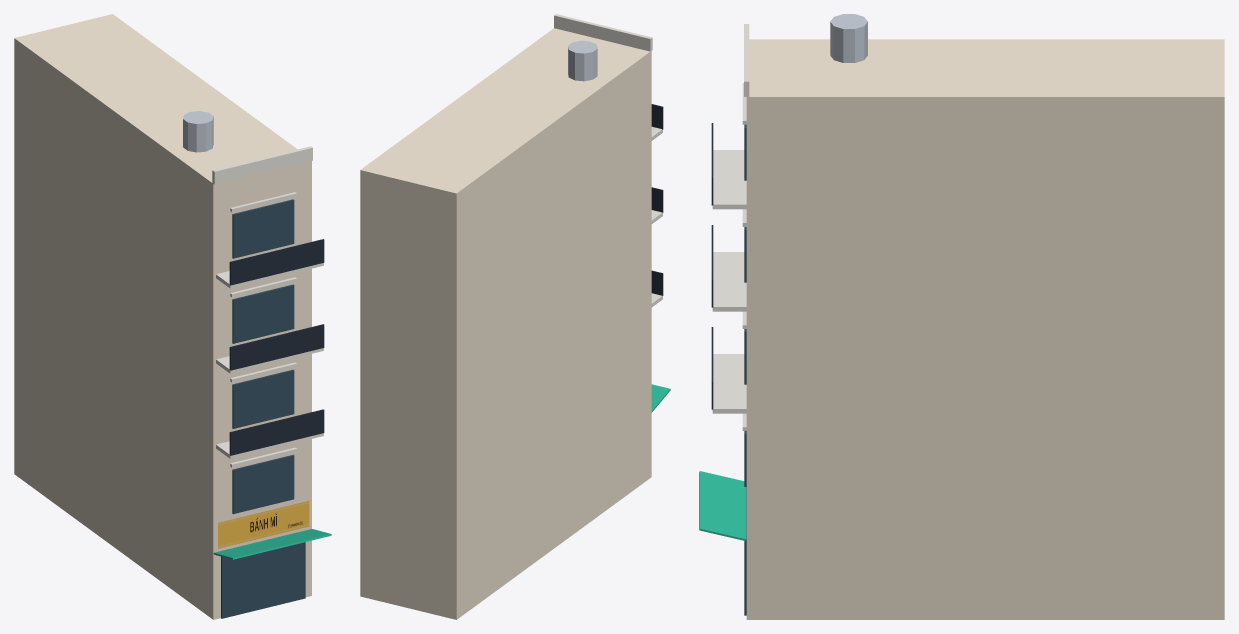
The model's file is shophouse_b.glb.
3 views of the same model, side by side, from view 1: azimuth 30°, elevation 25°; view 2: azimuth 150°, elevation 25°; view 3: azimuth 270°, elevation 25° (orthographic). The views are drawn at different scales.
Visible parts, largest first — view 1: shophouse; view 2: shophouse; view 3: shophouse.
Boxes of the visible parts, x1,y1,x2,y2 form: shophouse: (14, 14, 331, 619); shophouse: (360, 14, 670, 619); shophouse: (699, 14, 1224, 619).
Size of the model in its own units: 4 by 18 by 15.39.
7 materials, 1 textured.
